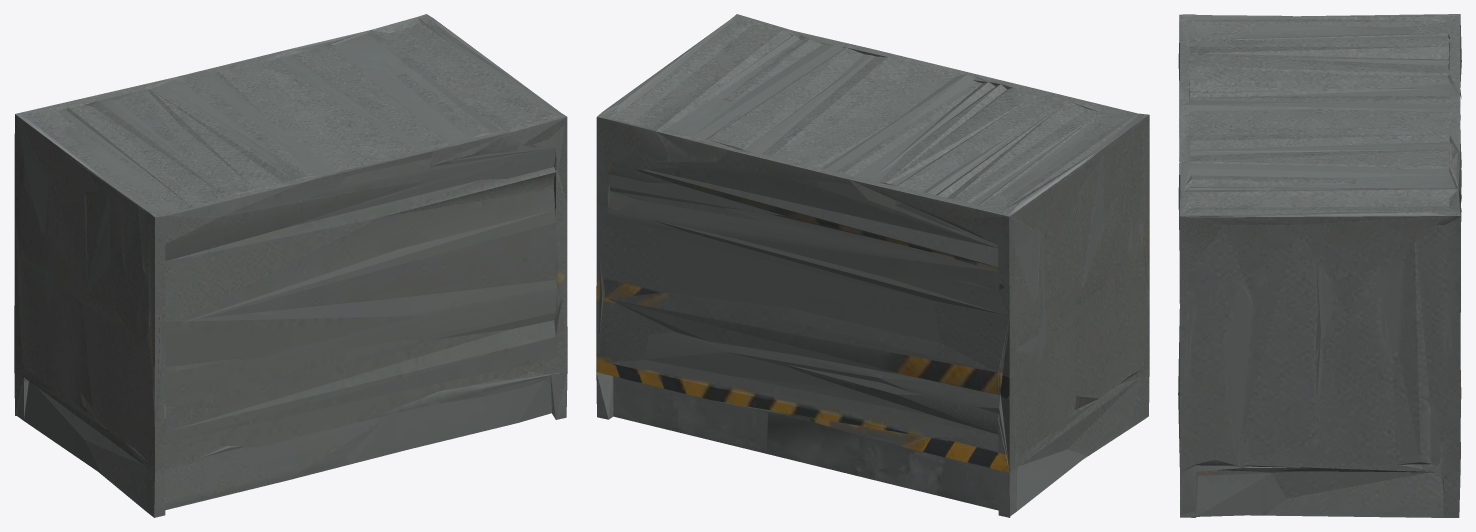
File: industrial_wall.glb
3 views of the same model, side by side, from view 1: azimuth 30°, elevation 25°; view 2: azimuth 150°, elevation 25°; view 3: azimuth 270°, elevation 25° (orthographic).
Bounding box in the file's own units: 5.72 × 4 × 3.39.
1 material, 1 textured.
